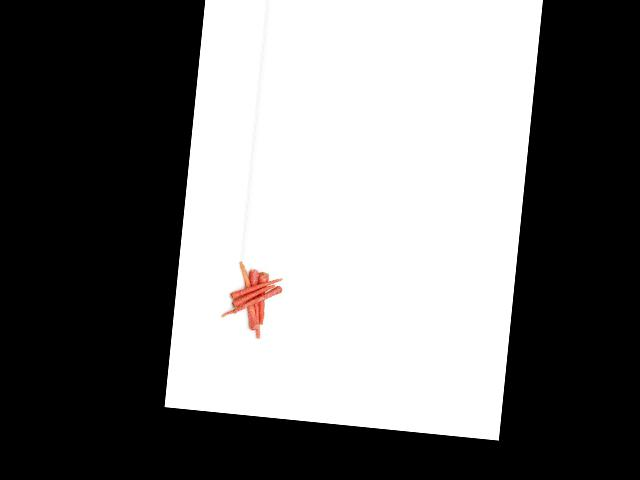carrot: (231, 272, 282, 301)
